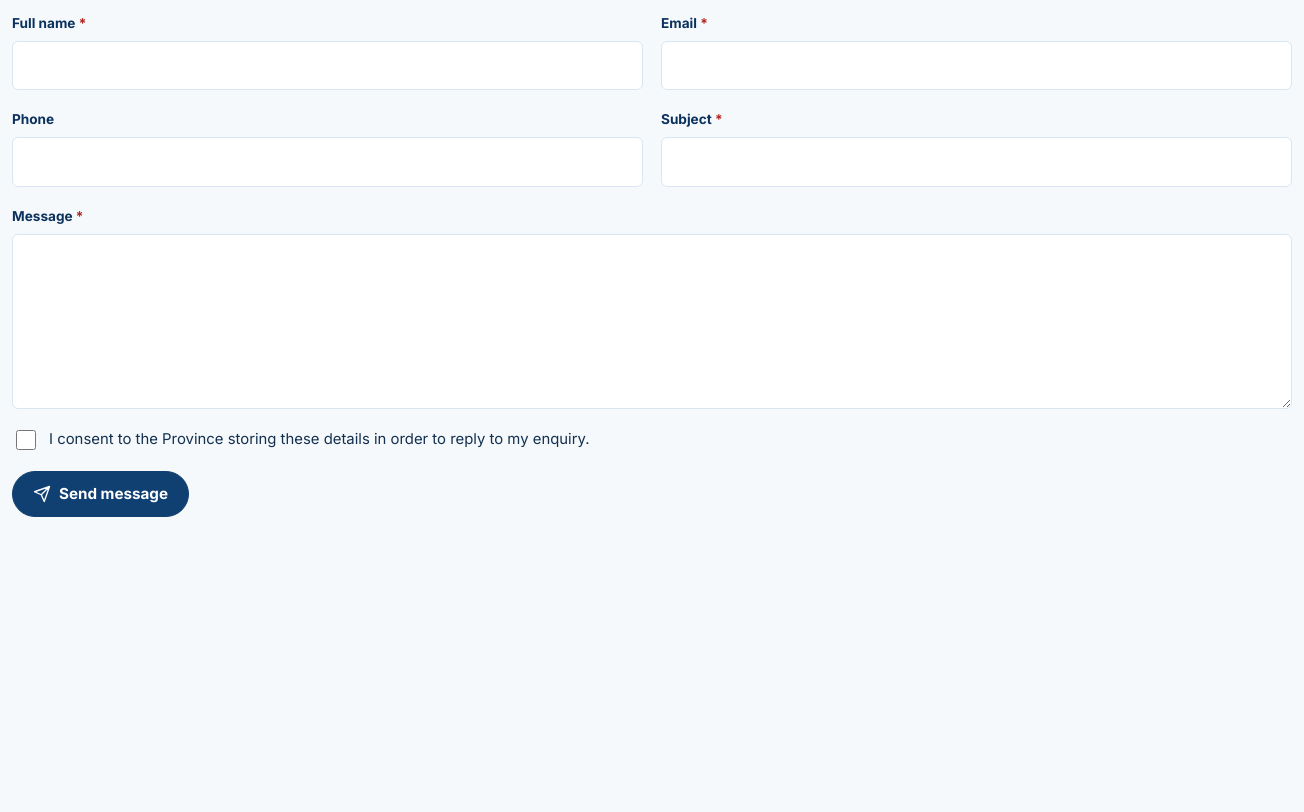
Scenario: ContactForm › requires consent before sending
Type "Mary Joseph" into the field labelled "Full name *" at (328, 66), box [12,41,643,90]
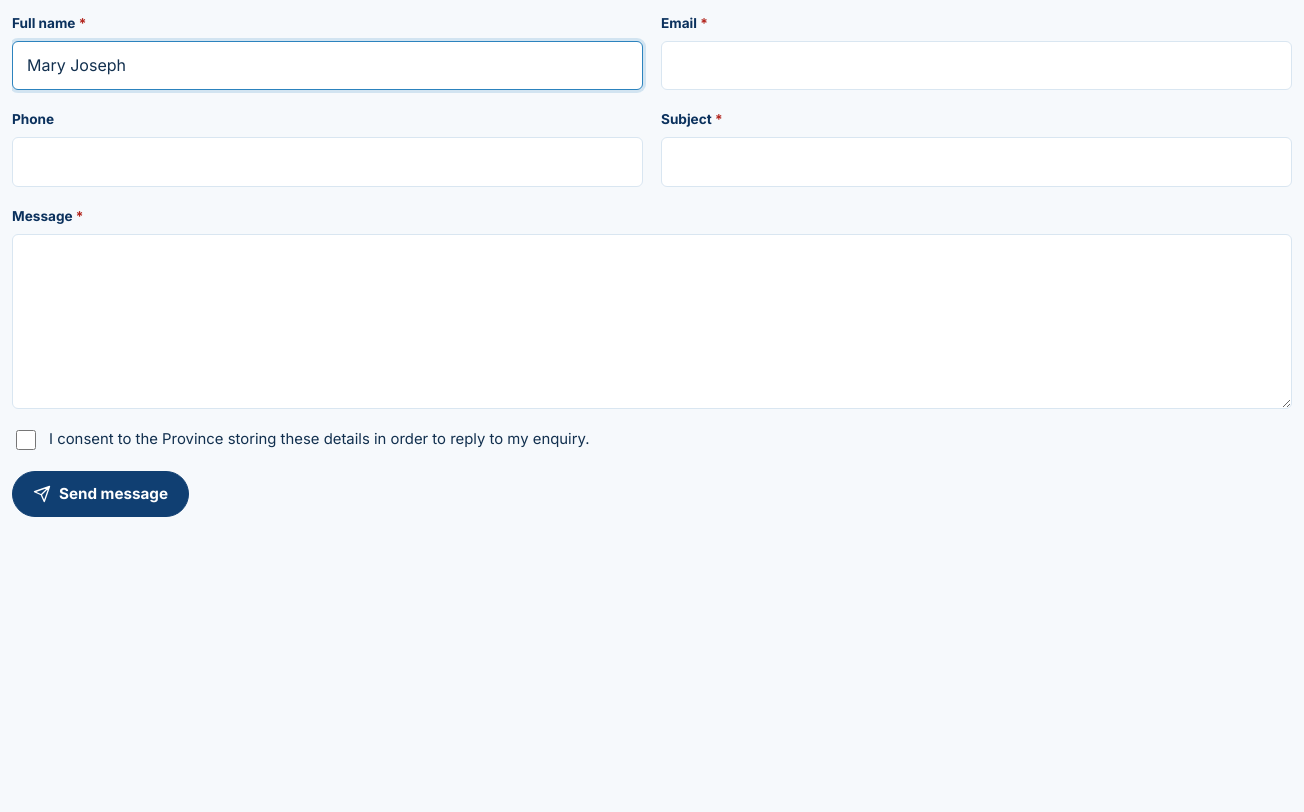
Click the button "Send message" at (100, 494), box [12,471,189,517]
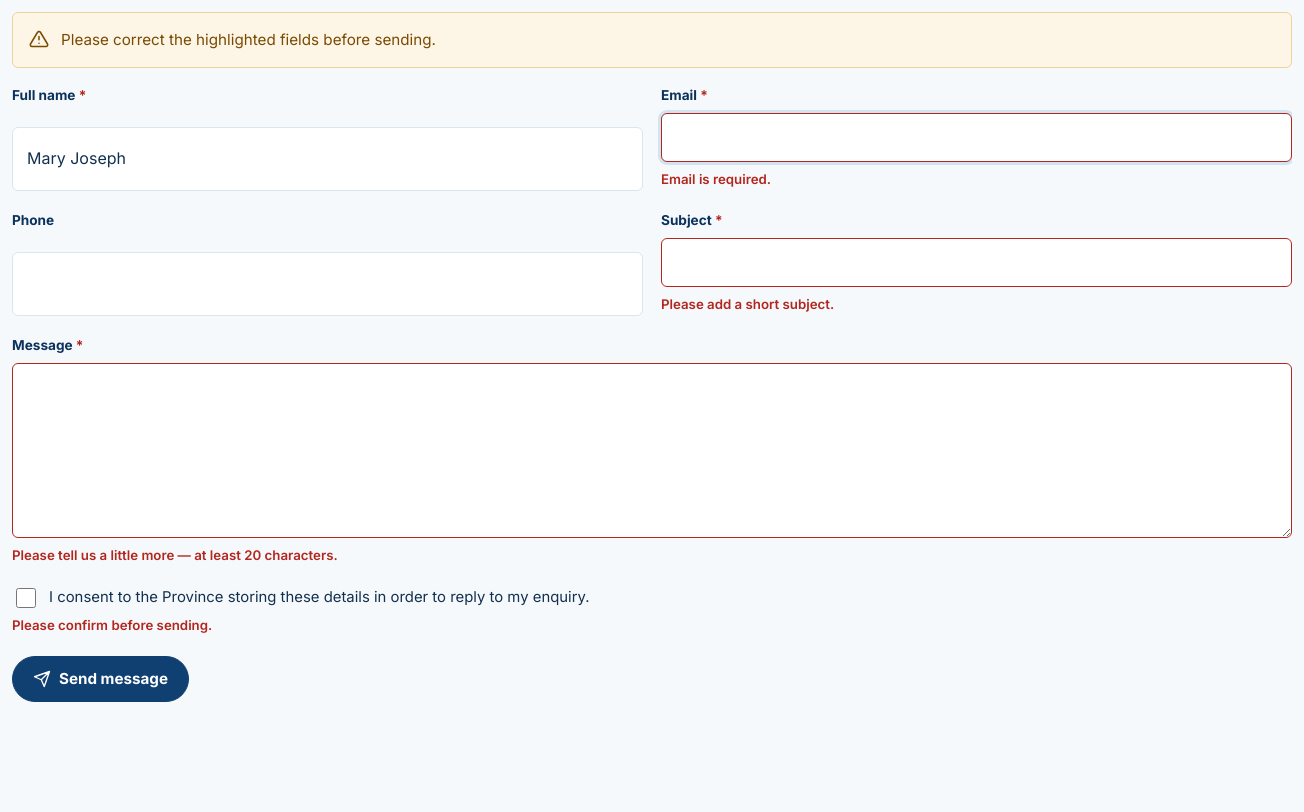
Expected: the text "Please confirm before sending." is shown, [12,617,212,633]
